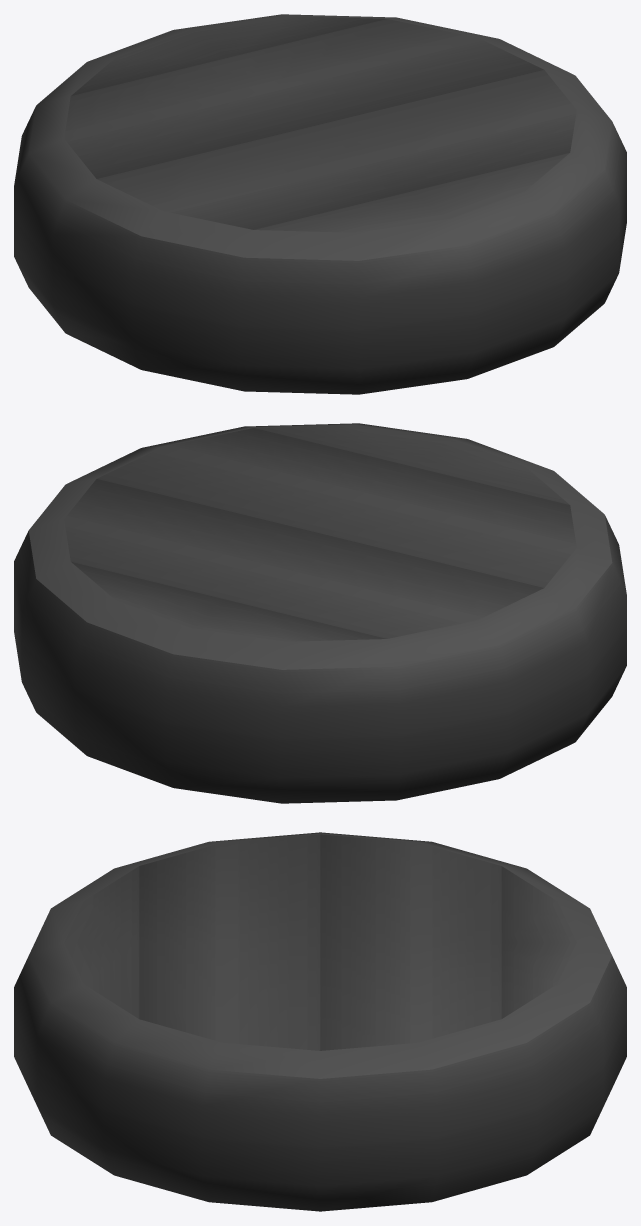
File: food-ingredient-burger-trash.glb
3 views of the same model, one above another, from view 1: azimuth 30°, elevation 25°; view 2: azimuth 150°, elevation 25°; view 3: azimuth 270°, elevation 25° (orthographic).
Visible parts, largest first — view 1: food_ingredient_burger_trash; view 2: food_ingredient_burger_trash; view 3: food_ingredient_burger_trash.
Boxes of the visible parts, x1,y1,x2,y2 form: food_ingredient_burger_trash: [14, 14, 626, 394]; food_ingredient_burger_trash: [14, 423, 626, 803]; food_ingredient_burger_trash: [14, 832, 626, 1211].
Bounding box in the file's own units: 0.7 × 0.2 × 0.7.
1 material, 1 textured.
